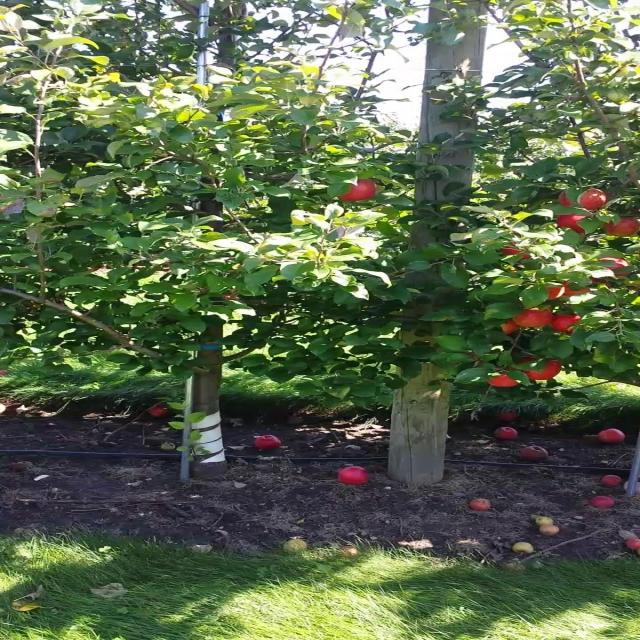apple: (561, 192, 612, 212), (518, 360, 562, 380), (340, 180, 377, 201), (518, 308, 555, 328), (596, 260, 633, 277), (604, 220, 638, 237), (554, 316, 583, 335), (561, 216, 588, 235), (490, 372, 521, 388), (568, 280, 596, 296), (504, 248, 533, 260), (504, 320, 519, 335), (547, 288, 565, 300), (589, 276, 610, 286)
